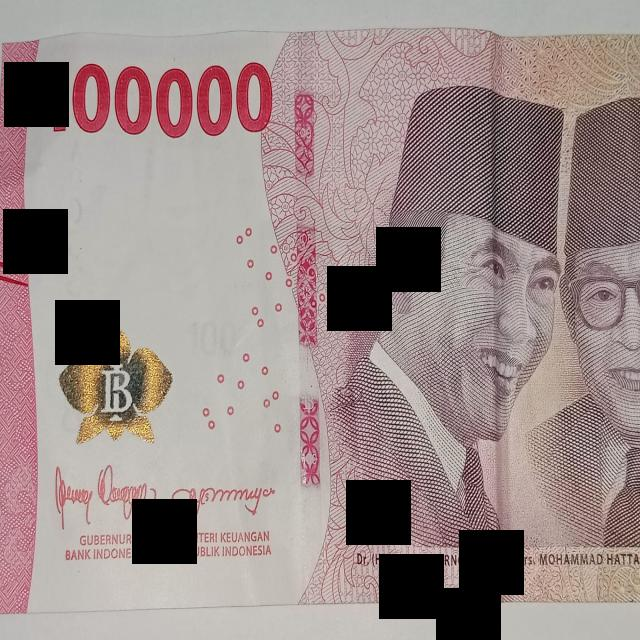seratusribu rupiah: (0, 30, 640, 611)
